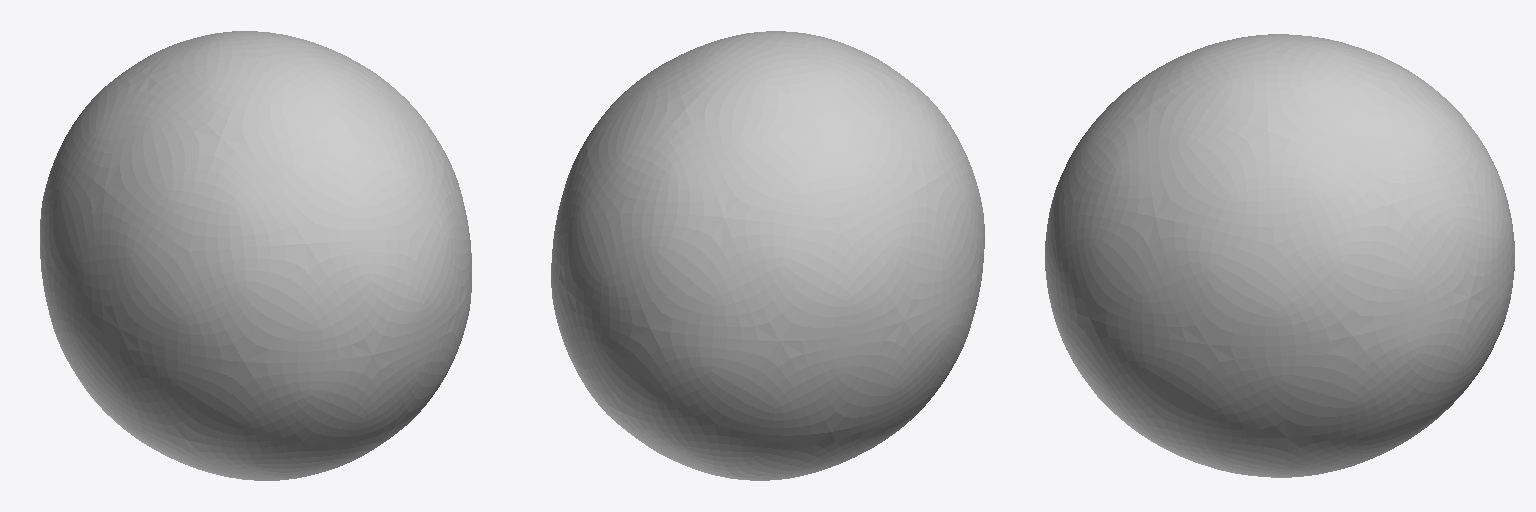
Rendered from egg.obj.
The picture shows the model from 3 angles: view 1: azimuth 30°, elevation 25°; view 2: azimuth 150°, elevation 25°; view 3: azimuth 270°, elevation 25°; orthographic projection.
Parts seen in each view (by area): view 1: Icosphere.001; view 2: Icosphere.001; view 3: Icosphere.001.
Part boxes in pixels (x1,y1,x2,y2): Icosphere.001: (40,31,471,480); Icosphere.001: (551,31,984,480); Icosphere.001: (1045,34,1514,477).
Size of the model in its own units: 0.9399 by 1.01 by 1.05.